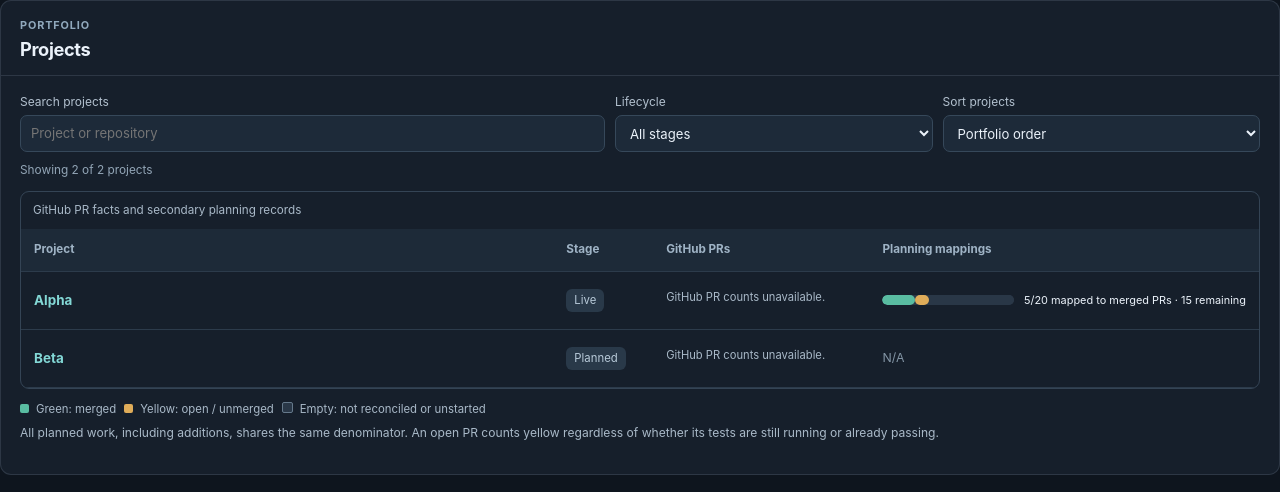
Test: project comparison › applies the same search and lifecycle controls as the portfolio home
The width and height of the screenshot is (1280, 492).
Select "live" in the dropdown labelled "Lifecycle". click: (774, 134)
box: x1=615 y1=115 x2=932 y2=152
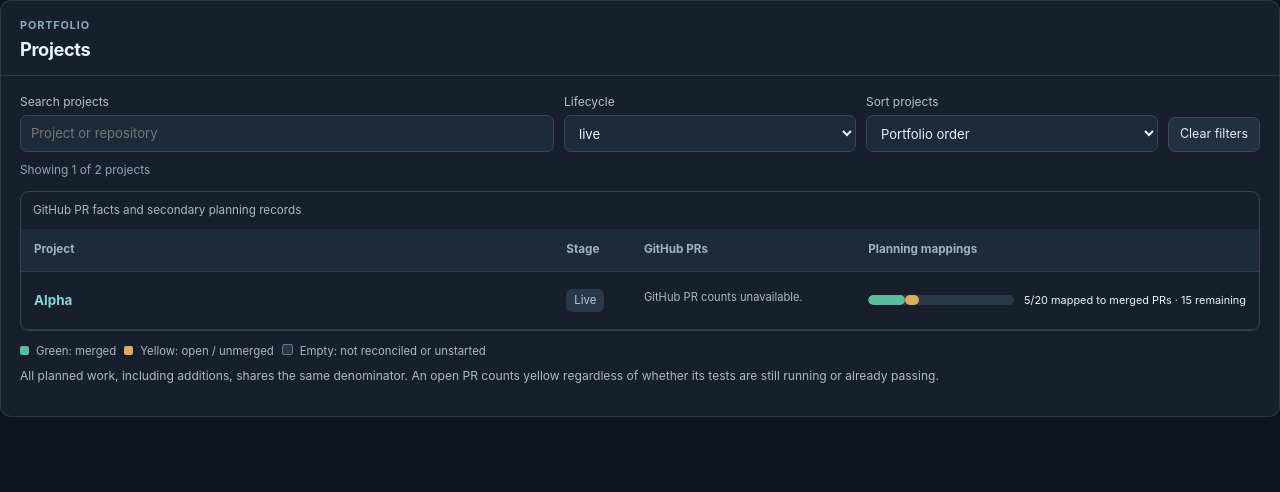
expect the link "Beta" is gone: met
expect the text "Showing 1 of 2 projects" is shown: met, box x1=20 y1=163 x2=150 y2=177
